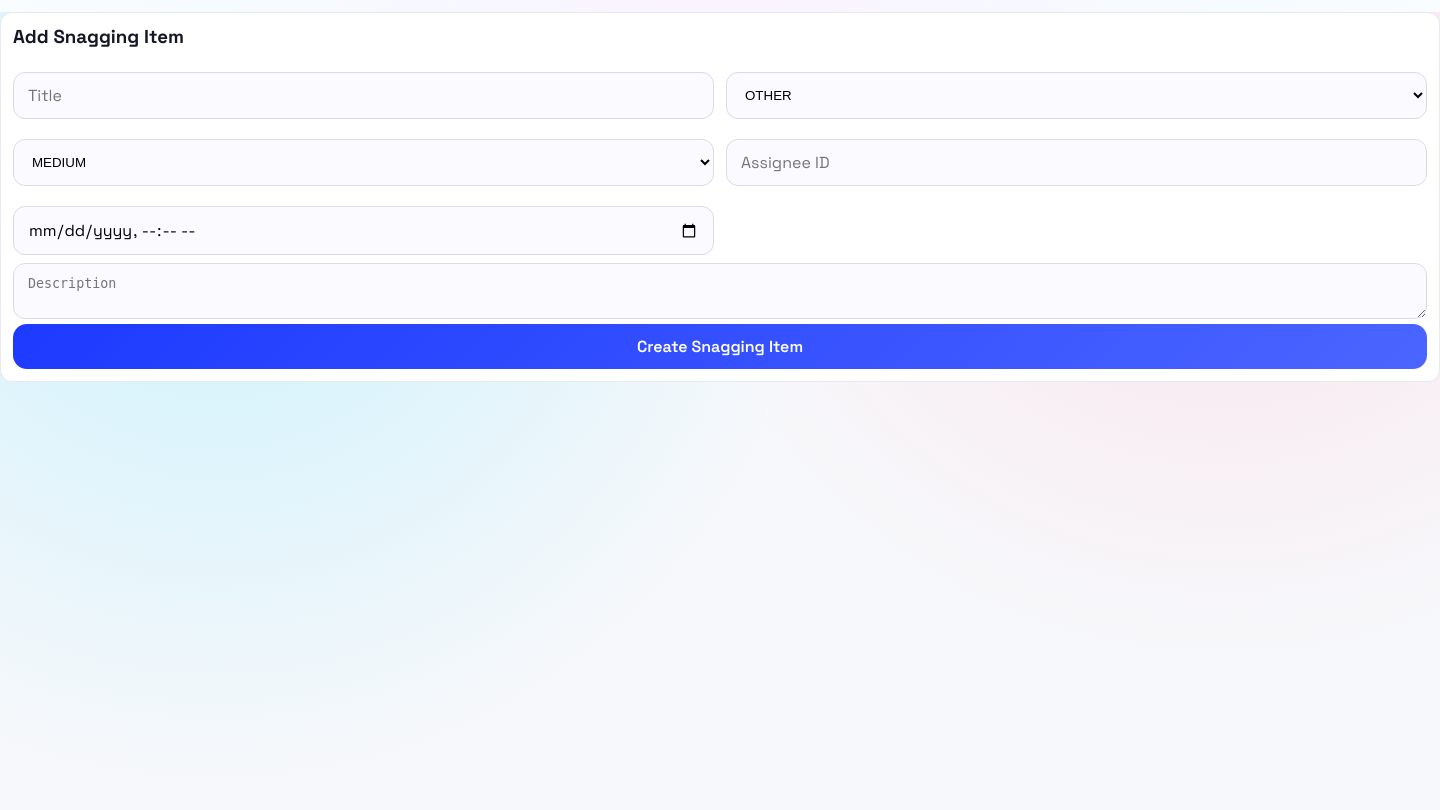
it: SnaggingForm › requires title and submits payload
Click the button "Create Snagging Item" at (720, 346), box [13,324,1427,369]
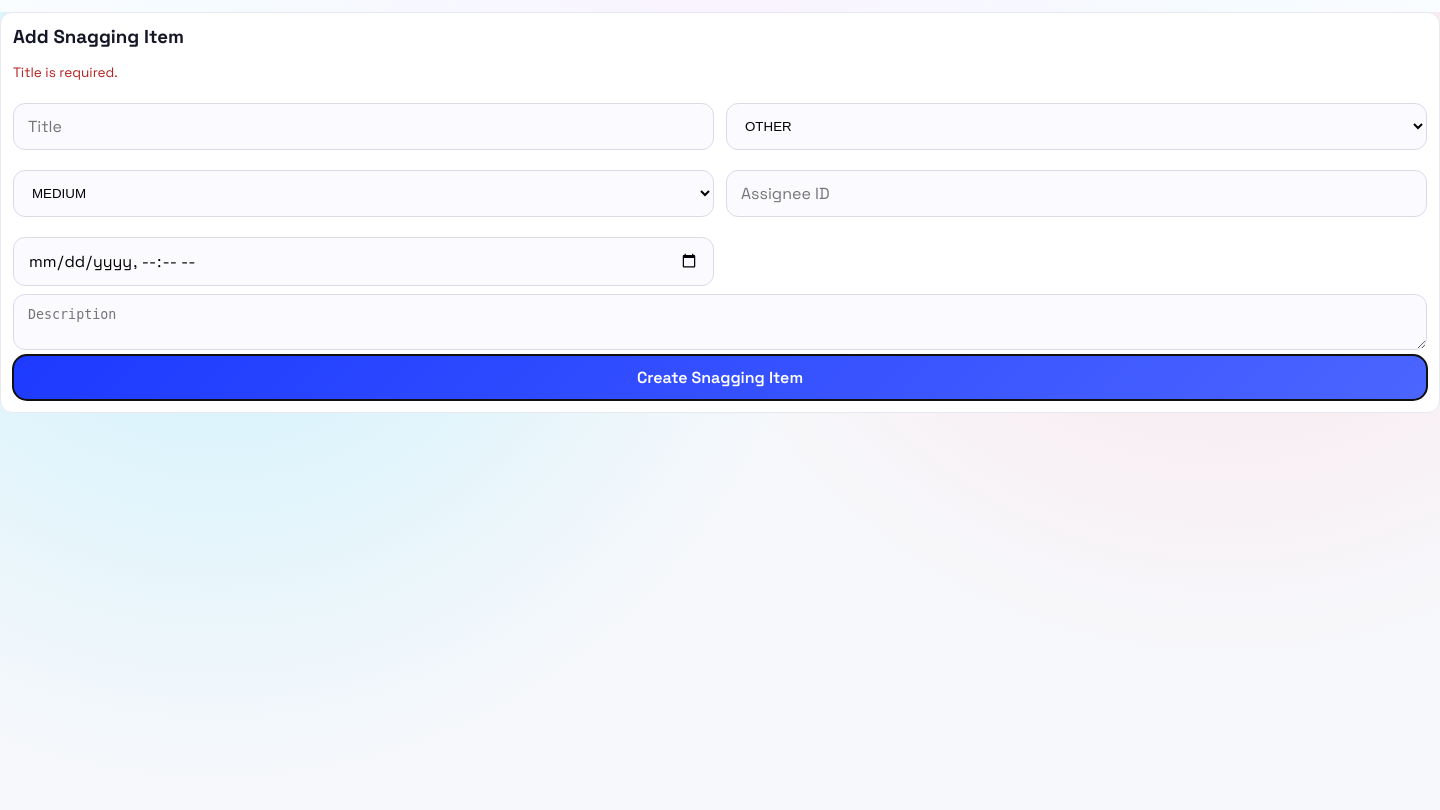
Expected: the text "Title is required." is shown, [13,64,118,81]
